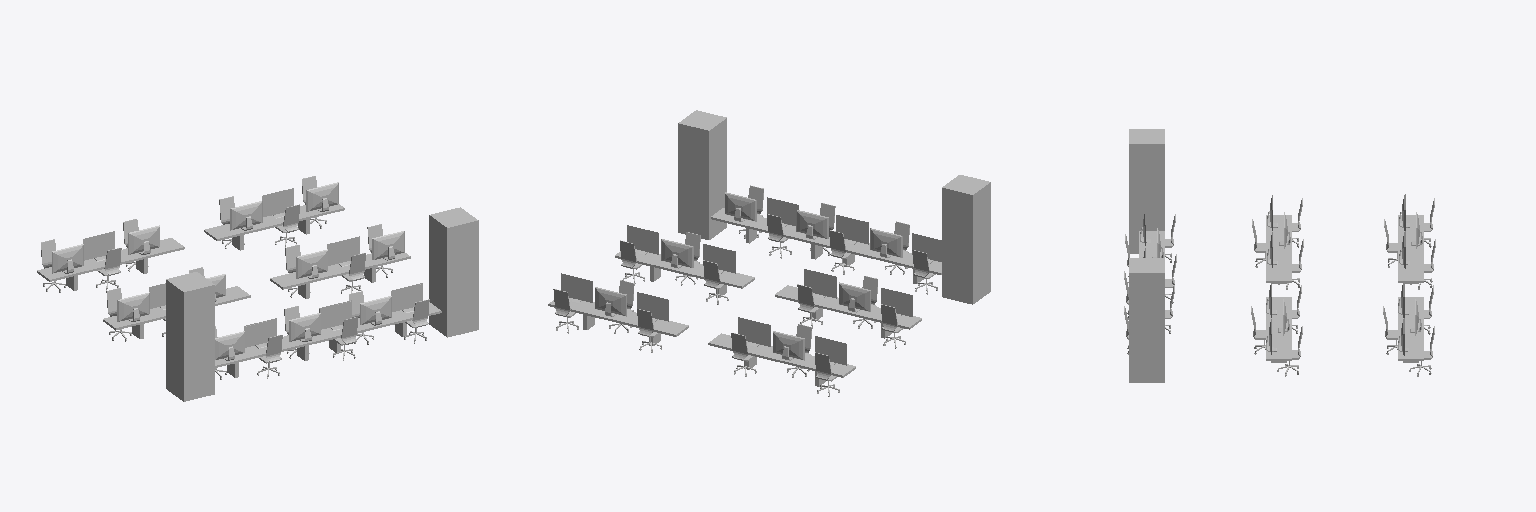
Rendered from cluster.obj.
3 renders of one model, left to right at view 1: azimuth 30°, elevation 25°; view 2: azimuth 150°, elevation 25°; view 3: azimuth 270°, elevation 25°, orthographic.
Visible parts, largest first — view 1: Cube.000_Cube.001, Cube.008_Cube, Cube.001_Cube.053, Cube.022_Cube.041, Cube.027_Cube.057, Cube.009_Cube.017, Cube.018_Cube.037, Cube.013_Cube.024, Cube.030_Cube.060, Cube.028_Cube.058, Cube.023_Cube.042, Cube.021_Cube.040 (+12 smaller); view 2: Cube.008_Cube, Cube.000_Cube.001, Cube.027_Cube.057, Cube.001_Cube.053, Cube.018_Cube.037, Cube.022_Cube.041, Cube.009_Cube.017, Cube.013_Cube.024, Cube.017_Cube.028, Cube.011_Cube.019, Cube.024_Cube.043, Cube.020_Cube.039 (+14 smaller); view 3: Cube.000_Cube.001, Cube.008_Cube, Cube.018_Cube.037, Cube.001_Cube.053, Cube.022_Cube.041, Cube.027_Cube.057.
Part boxes in pixels (left/top/right/bottom): Cube.000_Cube.001: left=429, top=207, right=478, bottom=337; Cube.008_Cube: left=166, top=272, right=214, bottom=401; Cube.001_Cube.053: left=37, top=238, right=184, bottom=290; Cube.022_Cube.041: left=270, top=253, right=410, bottom=298; Cube.027_Cube.057: left=204, top=204, right=344, bottom=250; Cube.009_Cube.017: left=215, top=328, right=341, bottom=377; Cube.018_Cube.037: left=103, top=286, right=250, bottom=338; Cube.013_Cube.024: left=314, top=302, right=441, bottom=352; Cube.030_Cube.060: left=230, top=201, right=262, bottom=230; Cube.028_Cube.058: left=306, top=182, right=338, bottom=211; Cube.023_Cube.042: left=372, top=231, right=404, bottom=260; Cube.021_Cube.040: left=117, top=292, right=149, bottom=321; Cube.008_Cube: left=942, top=175, right=990, bottom=304; Cube.000_Cube.001: left=678, top=110, right=726, bottom=239; Cube.027_Cube.057: left=548, top=298, right=688, bottom=345; Cube.001_Cube.053: left=708, top=333, right=855, bottom=386; Cube.018_Cube.037: left=775, top=285, right=921, bottom=338; Cube.022_Cube.041: left=615, top=249, right=754, bottom=297; Cube.009_Cube.017: left=806, top=237, right=941, bottom=283; Cube.013_Cube.024: left=711, top=208, right=822, bottom=259; Cube.017_Cube.028: left=796, top=210, right=828, bottom=239; Cube.011_Cube.019: left=870, top=228, right=902, bottom=257; Cube.024_Cube.043: left=661, top=239, right=693, bottom=268; Cube.020_Cube.039: left=839, top=282, right=870, bottom=312; Cube.000_Cube.001: left=1129, top=258, right=1164, bottom=382; Cube.008_Cube: left=1129, top=129, right=1164, bottom=253; Cube.018_Cube.037: left=1266, top=215, right=1291, bottom=283; Cube.001_Cube.053: left=1398, top=215, right=1423, bottom=283; Cube.022_Cube.041: left=1266, top=297, right=1291, bottom=362; Cube.027_Cube.057: left=1398, top=297, right=1423, bottom=362.
Bounding box in the file's own units: 15.97 × 5.67 × 14.62.